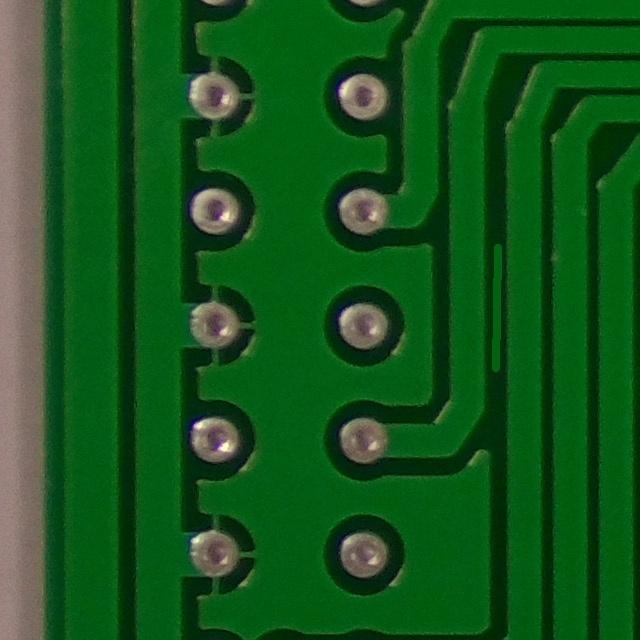spurious_copper: (479, 233, 511, 382)
